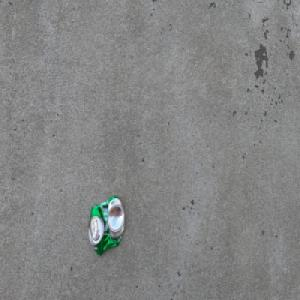SodaCan: (87, 195, 125, 256)
